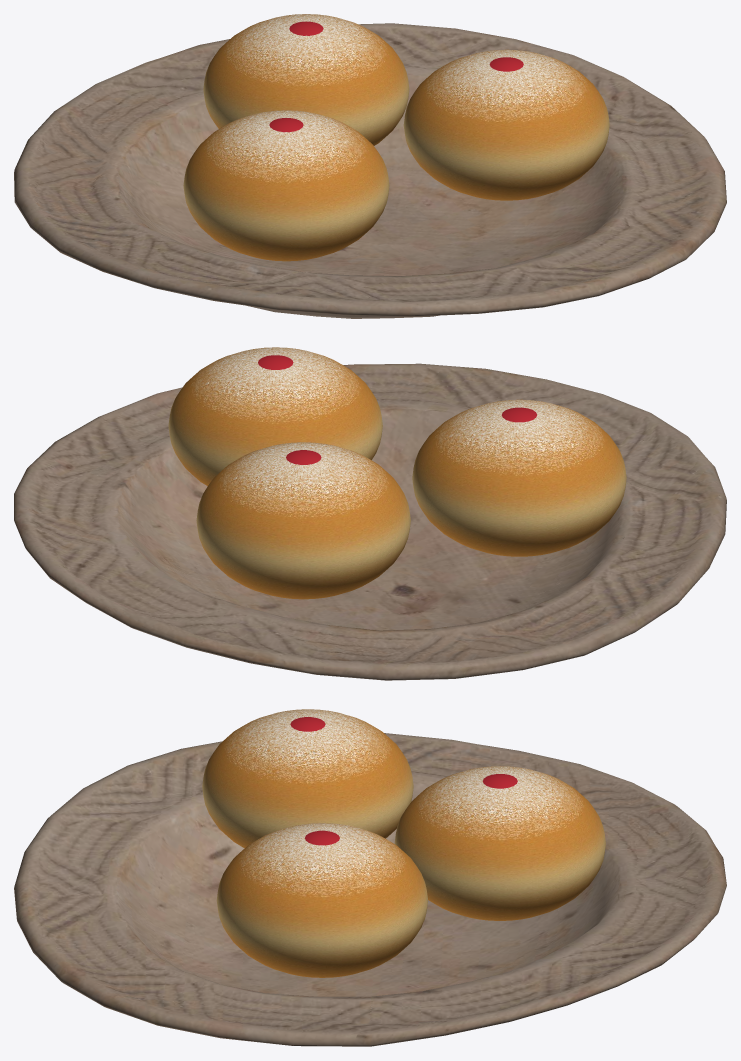
Rendered from sufganiot_plate_v4.glb.
3 renders of one model, top to bottom at view 1: azimuth 30°, elevation 25°; view 2: azimuth 150°, elevation 25°; view 3: azimuth 270°, elevation 25°, orthographic. The views are drawn at different scales.
Parts seen in each view (by area): view 1: carved_wooden_plate, TableSufganiya_0, TableSufganiya_1, TableSufganiya_2; view 2: carved_wooden_plate, TableSufganiya_0, TableSufganiya_2, TableSufganiya_1; view 3: carved_wooden_plate, TableSufganiya_1, TableSufganiya_2, TableSufganiya_0.
Boxes of the visible parts, <box> form: carved_wooden_plate: <box>14,23,726,318</box>; TableSufganiya_0: <box>183,110,389,261</box>; TableSufganiya_1: <box>403,49,609,200</box>; TableSufganiya_2: <box>203,14,409,145</box>; carved_wooden_plate: <box>14,363,726,680</box>; TableSufganiya_0: <box>412,399,626,556</box>; TableSufganiya_2: <box>196,442,410,599</box>; TableSufganiya_1: <box>168,347,382,486</box>; carved_wooden_plate: <box>14,733,726,1046</box>; TableSufganiya_1: <box>216,823,427,977</box>; TableSufganiya_2: <box>394,766,605,920</box>; TableSufganiya_0: <box>202,709,413,848</box>.
Size of the model in its own units: 0.3 by 0.084 by 0.2966.
Materials: 3 (2 with a texture image).
